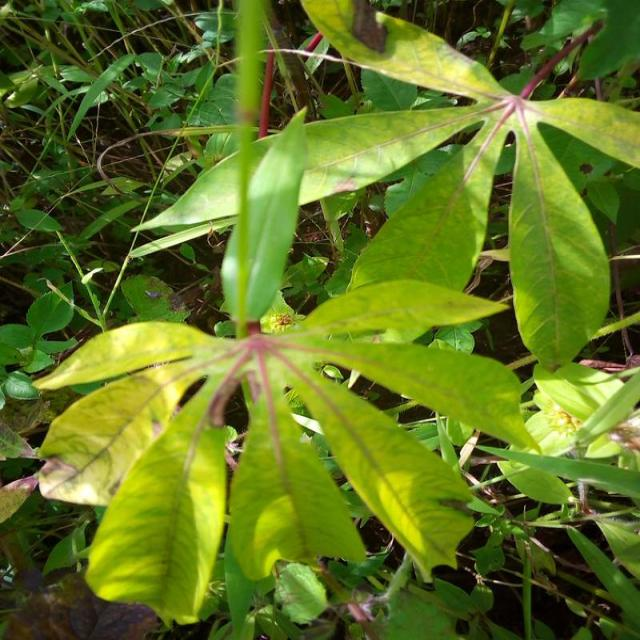cassava leaf: (30, 1, 638, 634), (130, 0, 638, 370), (83, 387, 229, 626)
